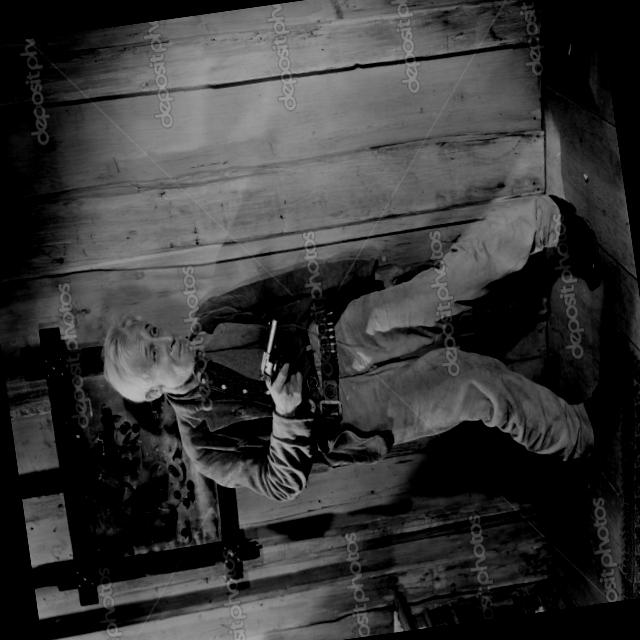handgun: (250, 305, 305, 433)
